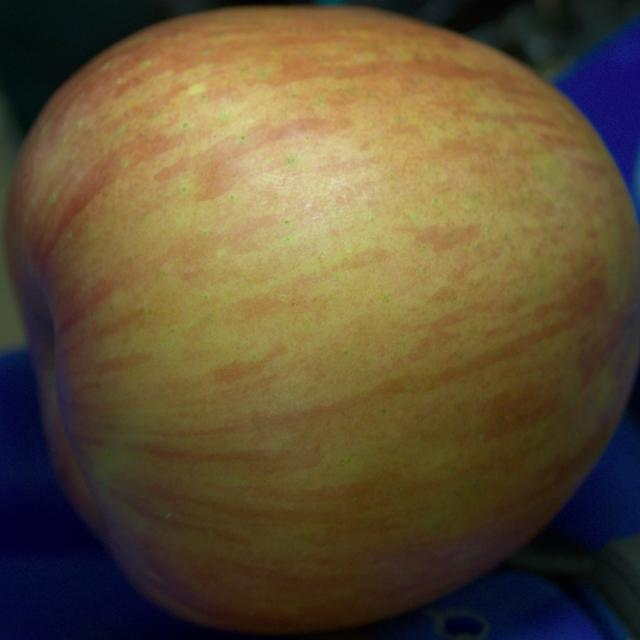apple: (6, 6, 639, 634)
